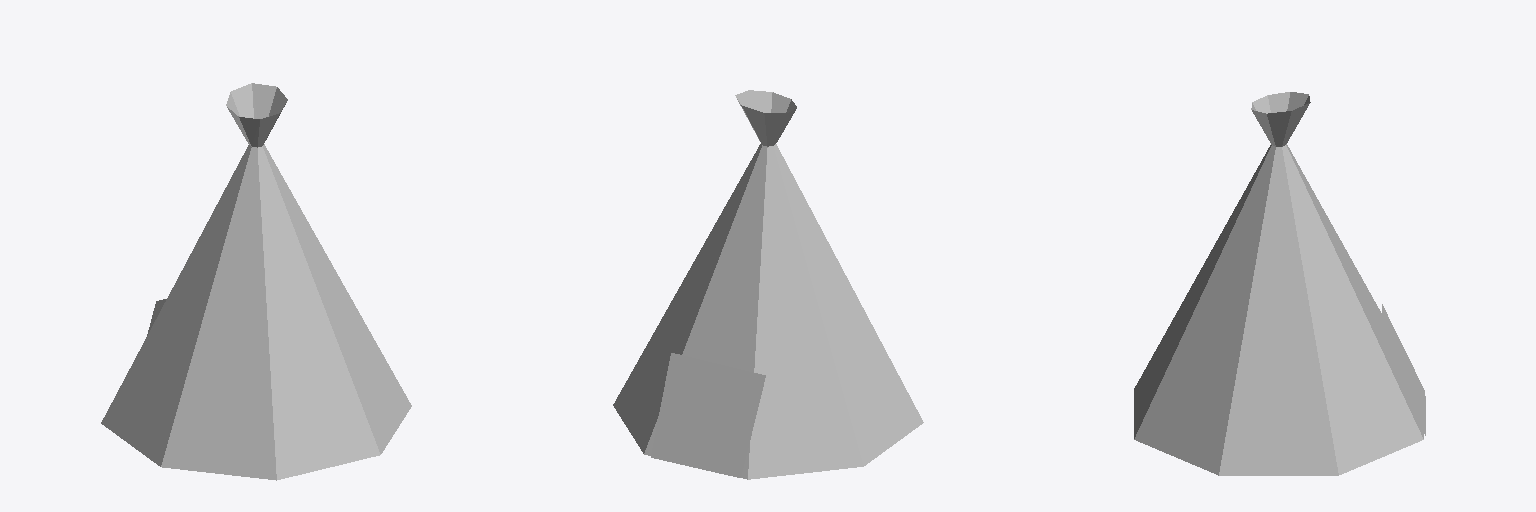
File: indianvillage_teepee01.obj
3 renders of one model, left to right at view 1: azimuth 30°, elevation 25°; view 2: azimuth 150°, elevation 25°; view 3: azimuth 270°, elevation 25°, orthographic.
Visible parts, largest first — view 1: Cone.001_Cone.002; view 2: Cone.001_Cone.002; view 3: Cone.001_Cone.002.
Boxes of the visible parts, x1=… form: Cone.001_Cone.002: x1=101, y1=83, x2=411, y2=480; Cone.001_Cone.002: x1=613, y1=90, x2=923, y2=479; Cone.001_Cone.002: x1=1134, y1=92, x2=1425, y2=475.
Size of the model in its own units: 4.01 by 4.86 by 4.04.